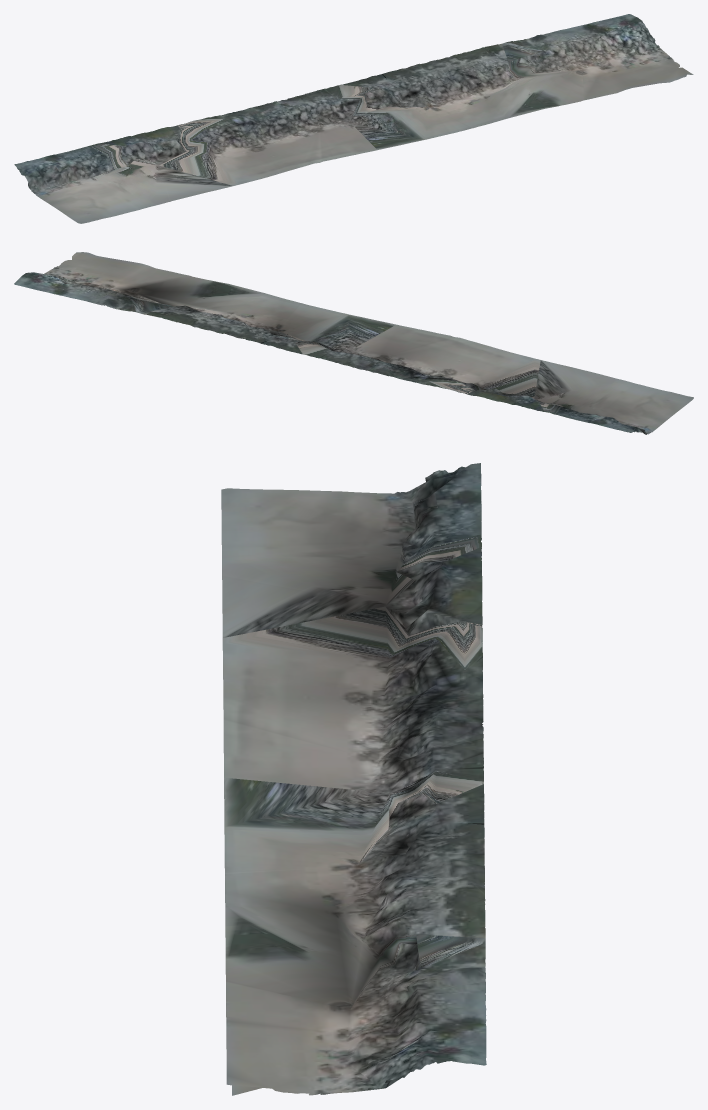
Rendered from shore-breakwater.lod0.glb.
3 renders of one model, top to bottom at view 1: azimuth 30°, elevation 25°; view 2: azimuth 150°, elevation 25°; view 3: azimuth 270°, elevation 25°, orthographic. The views are drawn at different scales.
Parts seen in each view (by area): view 1: Object_2; view 2: Object_2; view 3: Object_2.
Part boxes in pixels (x1,y1,x2,y2): Object_2: (14, 14, 693, 223); Object_2: (14, 252, 693, 434); Object_2: (221, 463, 486, 1095).
Bounding box in the file's own units: 92.07 × 2.61 × 17.14.
1 material, 1 textured.
